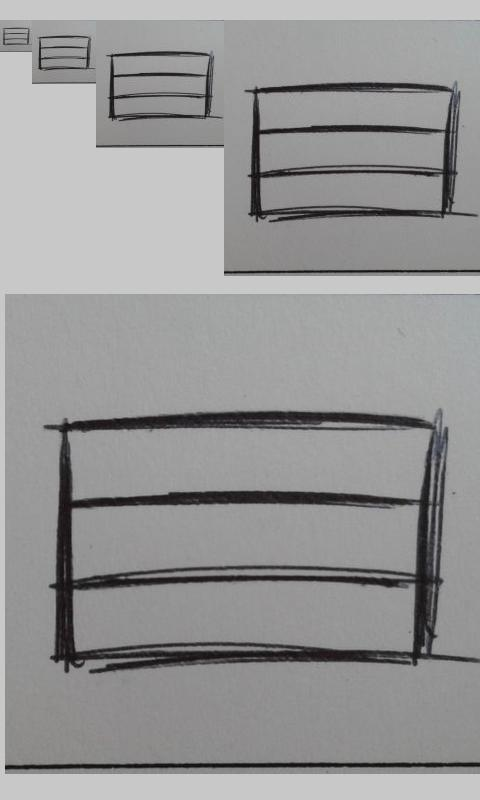list_view: (54, 408, 445, 669), (253, 84, 457, 223), (108, 51, 214, 119), (38, 35, 91, 71), (3, 27, 30, 46)
